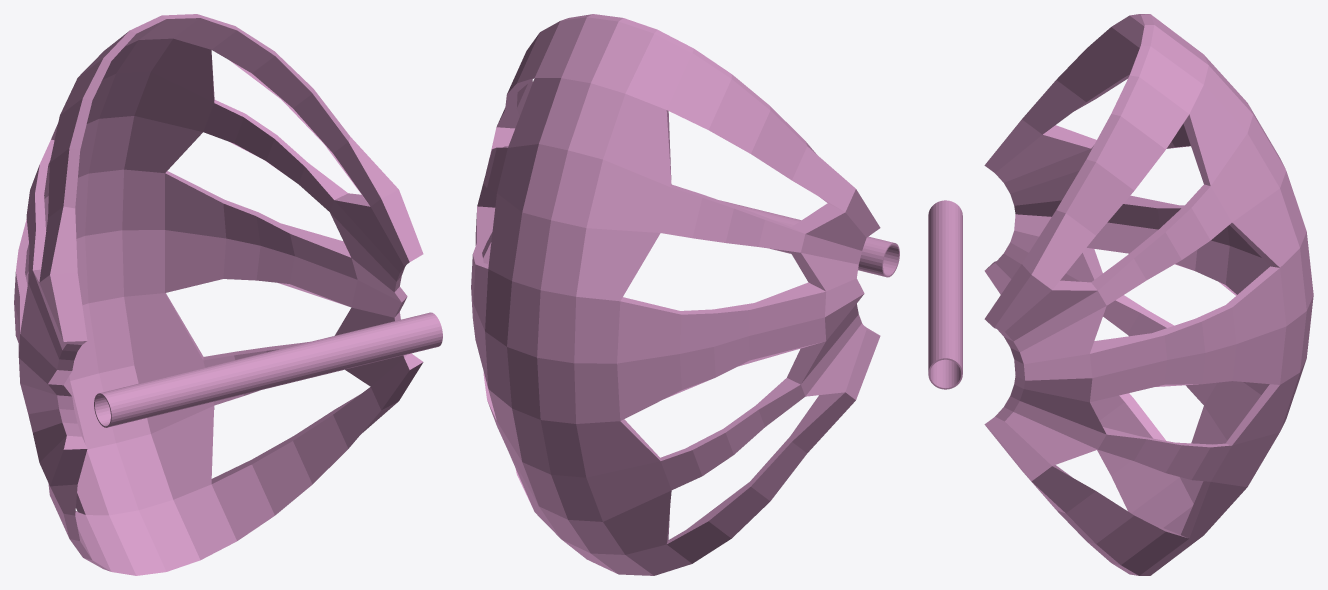
The model's file is SubShield2.fbx.
The picture shows the model from 3 angles, left to right: view 1: azimuth 30°, elevation 25°; view 2: azimuth 150°, elevation 25°; view 3: azimuth 270°, elevation 25°; orthographic projection. The views are drawn at different scales.
Parts seen in each view (by area): view 1: Sphere, Cylinder; view 2: Sphere, Cylinder; view 3: Sphere, Cylinder.
Boxes of the visible parts, left/top/right/bottom form: Sphere: left=14, top=14, right=423, bottom=575; Cylinder: left=94, top=312, right=442, bottom=427; Sphere: left=471, top=14, right=880, bottom=575; Cylinder: left=720, top=200, right=899, bottom=277; Sphere: left=984, top=14, right=1313, bottom=575; Cylinder: left=928, top=200, right=962, bottom=389.
Bounding box in the file's own units: 335 × 492 × 318.
